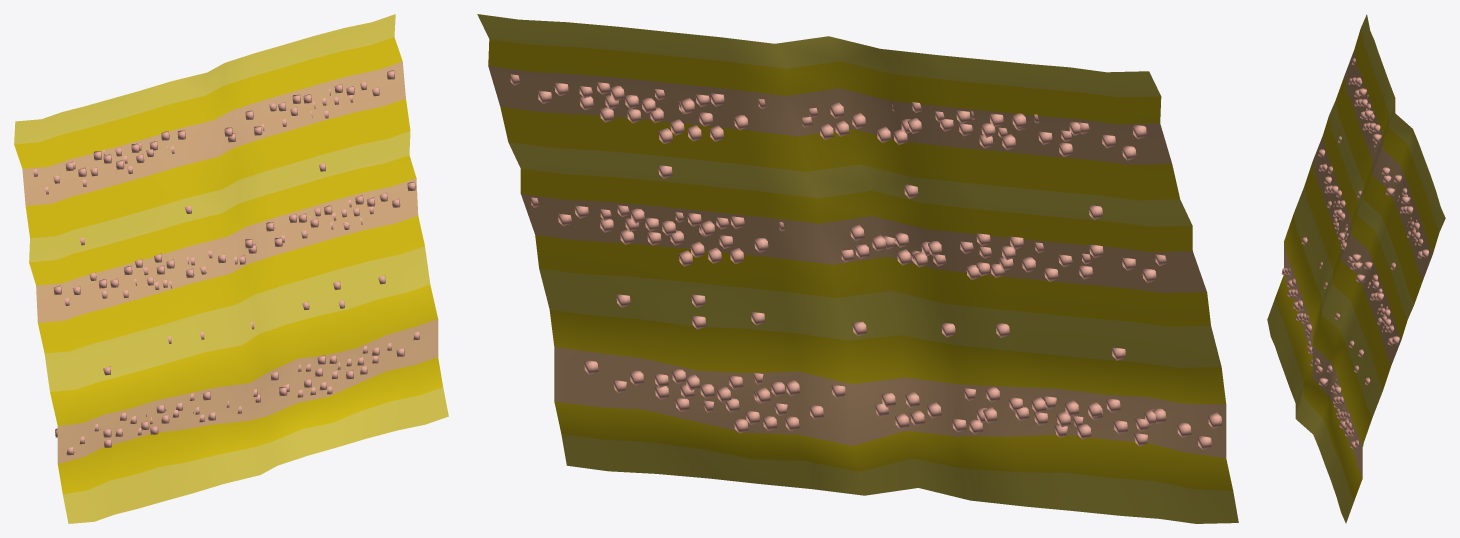
Rendered from wall.glb.
3 renders of one model, left to right at view 1: azimuth 30°, elevation 25°; view 2: azimuth 150°, elevation 25°; view 3: azimuth 270°, elevation 25°, orthographic. The views are drawn at different scales.
Parts seen in each view (by area): view 1: Cube; view 2: Cube; view 3: Cube.
Boxes of the visible parts, box(x1,y1,x2,y2) form: Cube: box(14, 14, 448, 523); Cube: box(477, 14, 1238, 523); Cube: box(1267, 14, 1445, 523).
Size of the model in its own units: 23.92 by 20.41 by 9.9.
